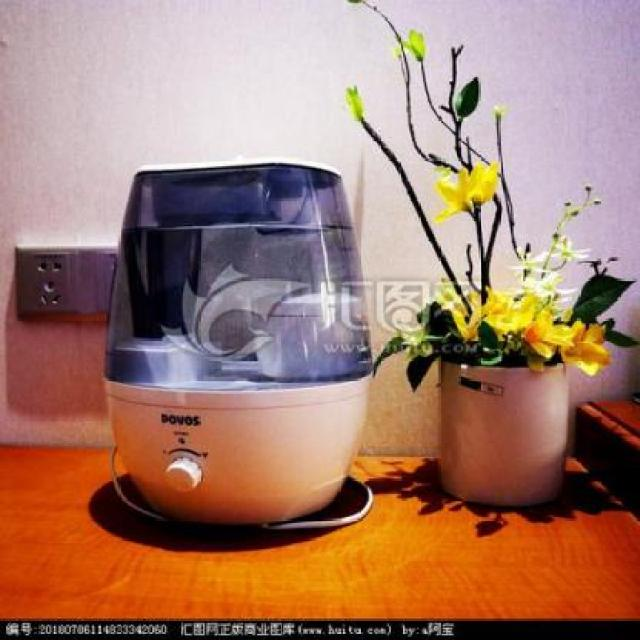cooler: (102, 157, 380, 531)
